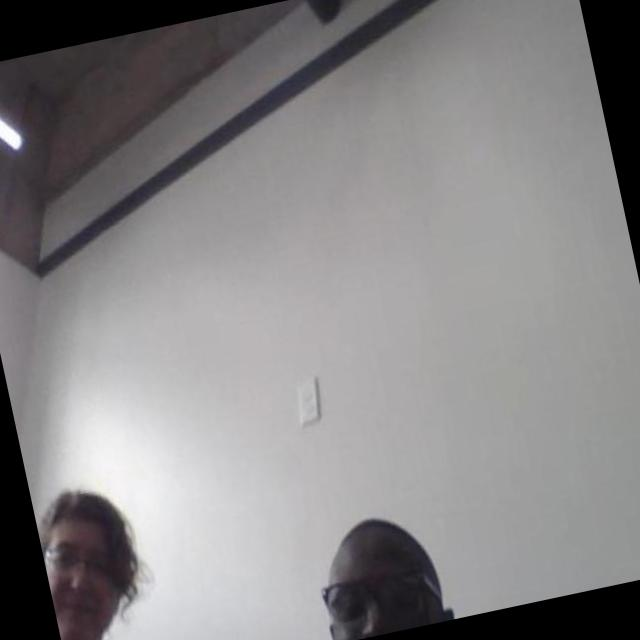bareface: (33, 492, 154, 640)
